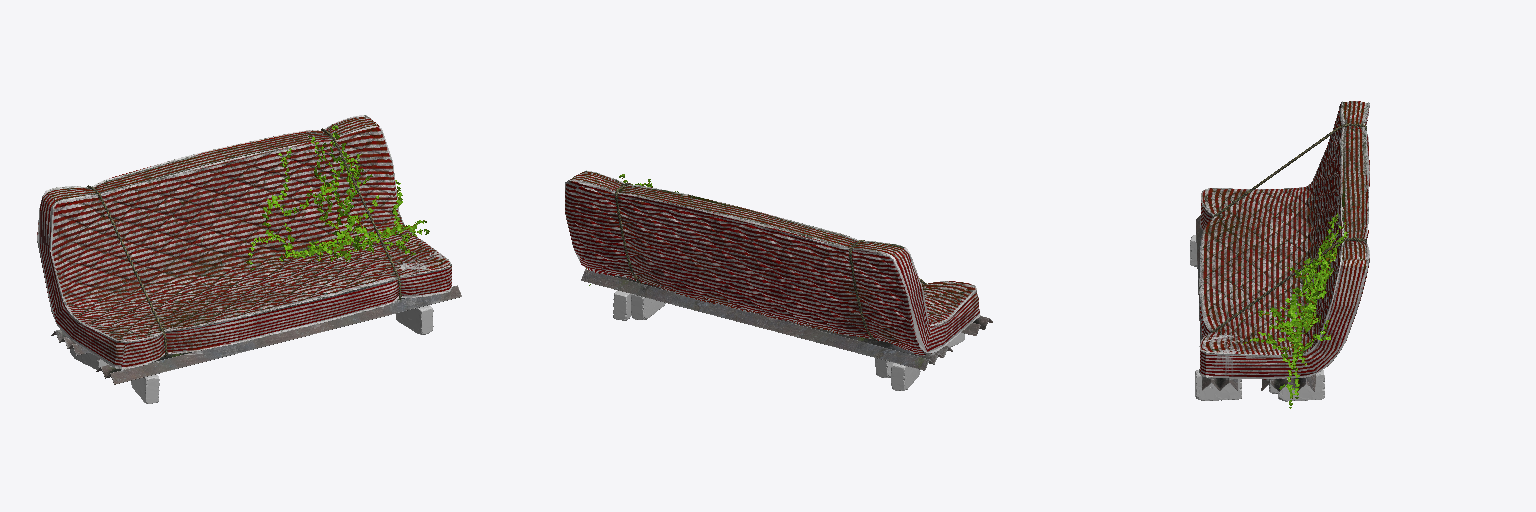
3 views of the same model, side by side, from view 1: azimuth 30°, elevation 25°; view 2: azimuth 150°, elevation 25°; view 3: azimuth 270°, elevation 25° (orthographic).
Visible parts, largest first — view 1: Cube.004_Cube.006, Cube_Cube.001, BezierCurve.001, Brick, Brick.001; view 2: Cube.004_Cube.006, Cube.001_Cube.002, Brick.002, Brick.005, BezierCurve.001; view 3: Cube.004_Cube.006, BezierCurve.001, Brick, Brick.004, Cube_Cube.001.
Part boxes in pixels (x1,y1,x2,y2): Cube.004_Cube.006: (37,115,451,369); Cube_Cube.001: (96,285,461,384); BezierCurve.001: (87,128,401,356); Brick: (396,305,433,334); Brick.001: (131,374,159,403); Cube.004_Cube.006: (565,170,980,355); Cube.001_Cube.002: (581,269,952,370); Brick.002: (891,363,920,390); Brick.005: (631,294,665,319); BezierCurve.001: (615,182,926,340); Cube.004_Cube.006: (1199,101,1369,379); BezierCurve.001: (1211,124,1366,332); Brick: (1195,370,1241,400); Brick.004: (1277,370,1324,401); Cube_Cube.001: (1196,215,1237,390).
Bounding box in the file's own units: 2.99 × 1.23 × 1.27.
4 materials, 3 textured.